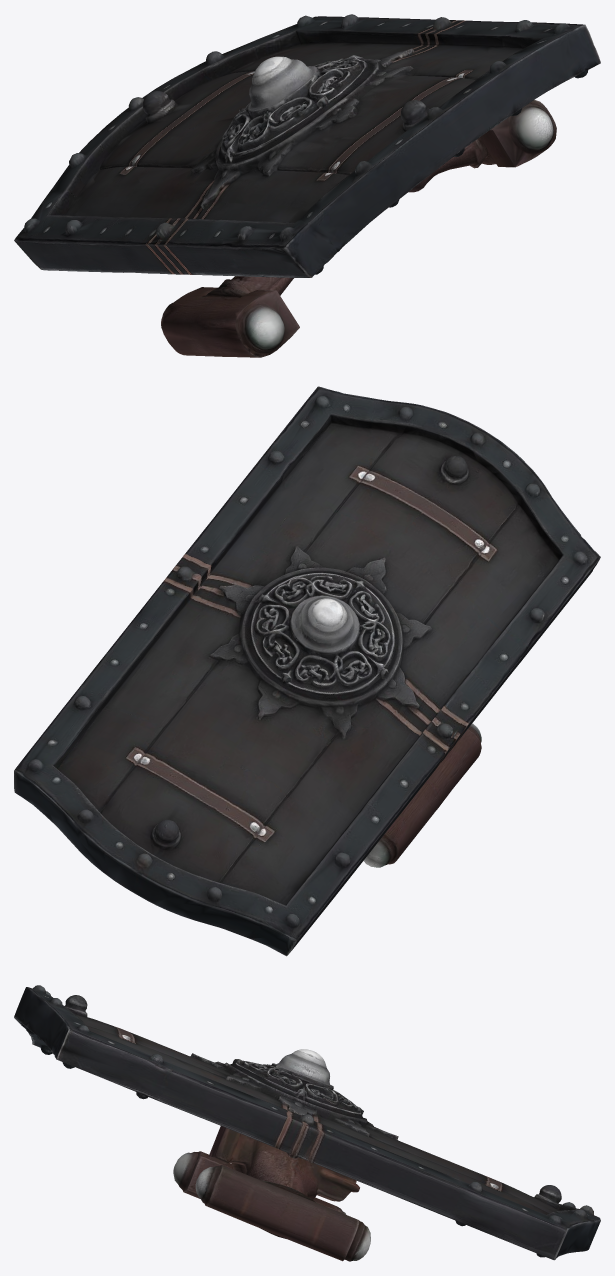
File: tower_shield.glb
3 renders of one model, top to bottom at view 1: azimuth 30°, elevation 25°; view 2: azimuth 150°, elevation 25°; view 3: azimuth 270°, elevation 25°, orthographic. The views are drawn at different scales.
Visible parts, largest first — view 1: mesh_node; view 2: mesh_node; view 3: mesh_node.
Boxes of the visible parts, x1,y1,x2,y2 form: mesh_node: (14,14,600,357); mesh_node: (14,386,600,956); mesh_node: (14,985,600,1261).
Size of the model in its own units: 77.49 by 75.32 by 127.
Materials: 1 (1 with a texture image).
